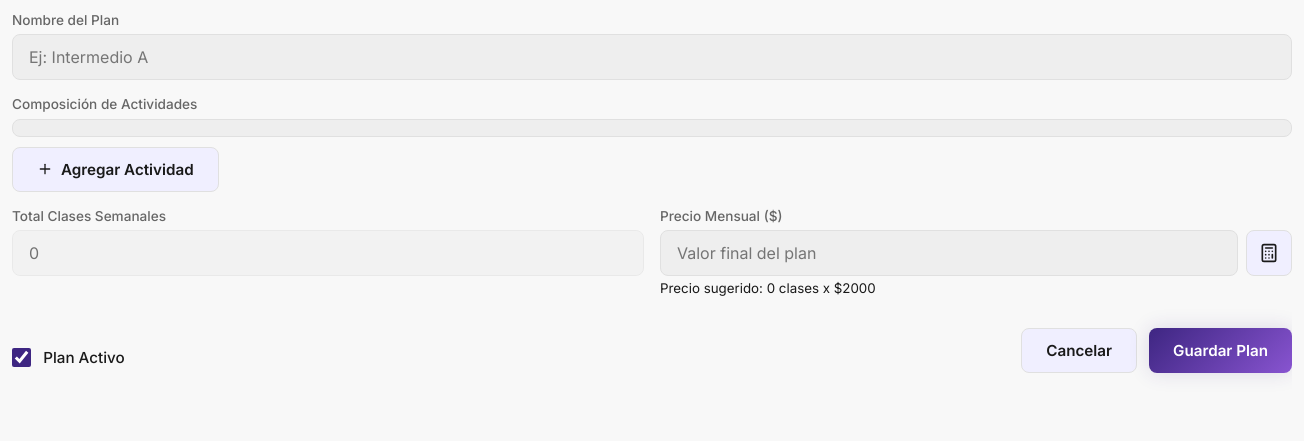
Test: PlanForm › Eliminar actividad: botón Trash2 elimina la fila
The image size is (1304, 441).
Step 1. Click the button "Agregar Actividad" → click(115, 169), box [12,147,219,192]
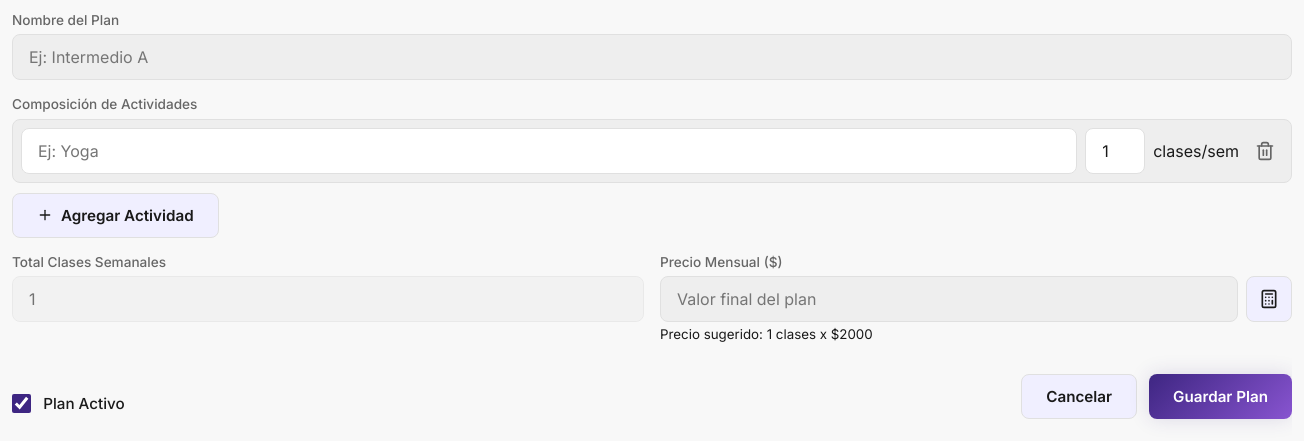
Check: the text "clases/sem" is shown, box [1153,141,1239,161]
Check: the button with class "icon-btn" is shown
Step 2. Click the button with class "icon-btn" → click(1265, 151), box [1247,133,1283,169]
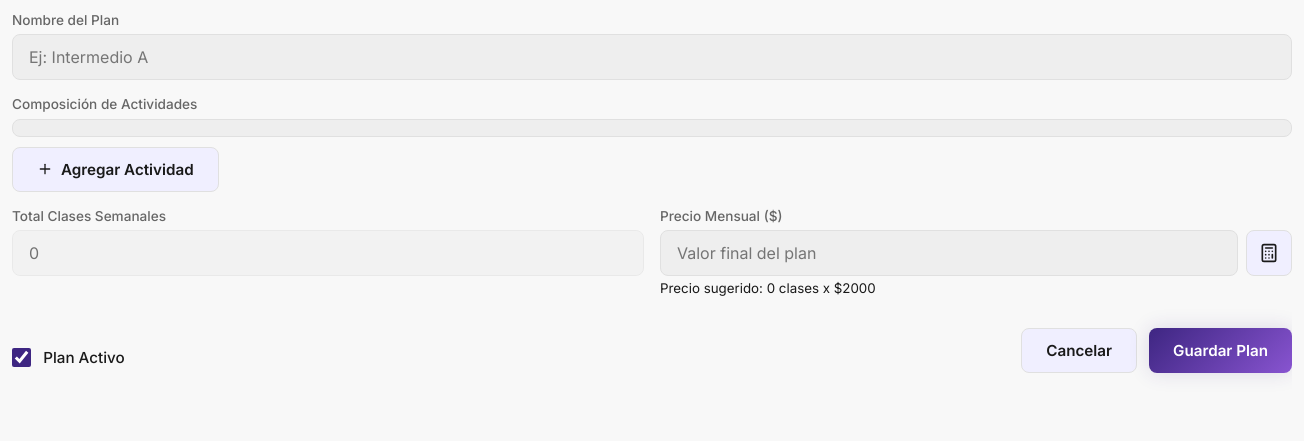
Check: the text "clases/sem" is gone
